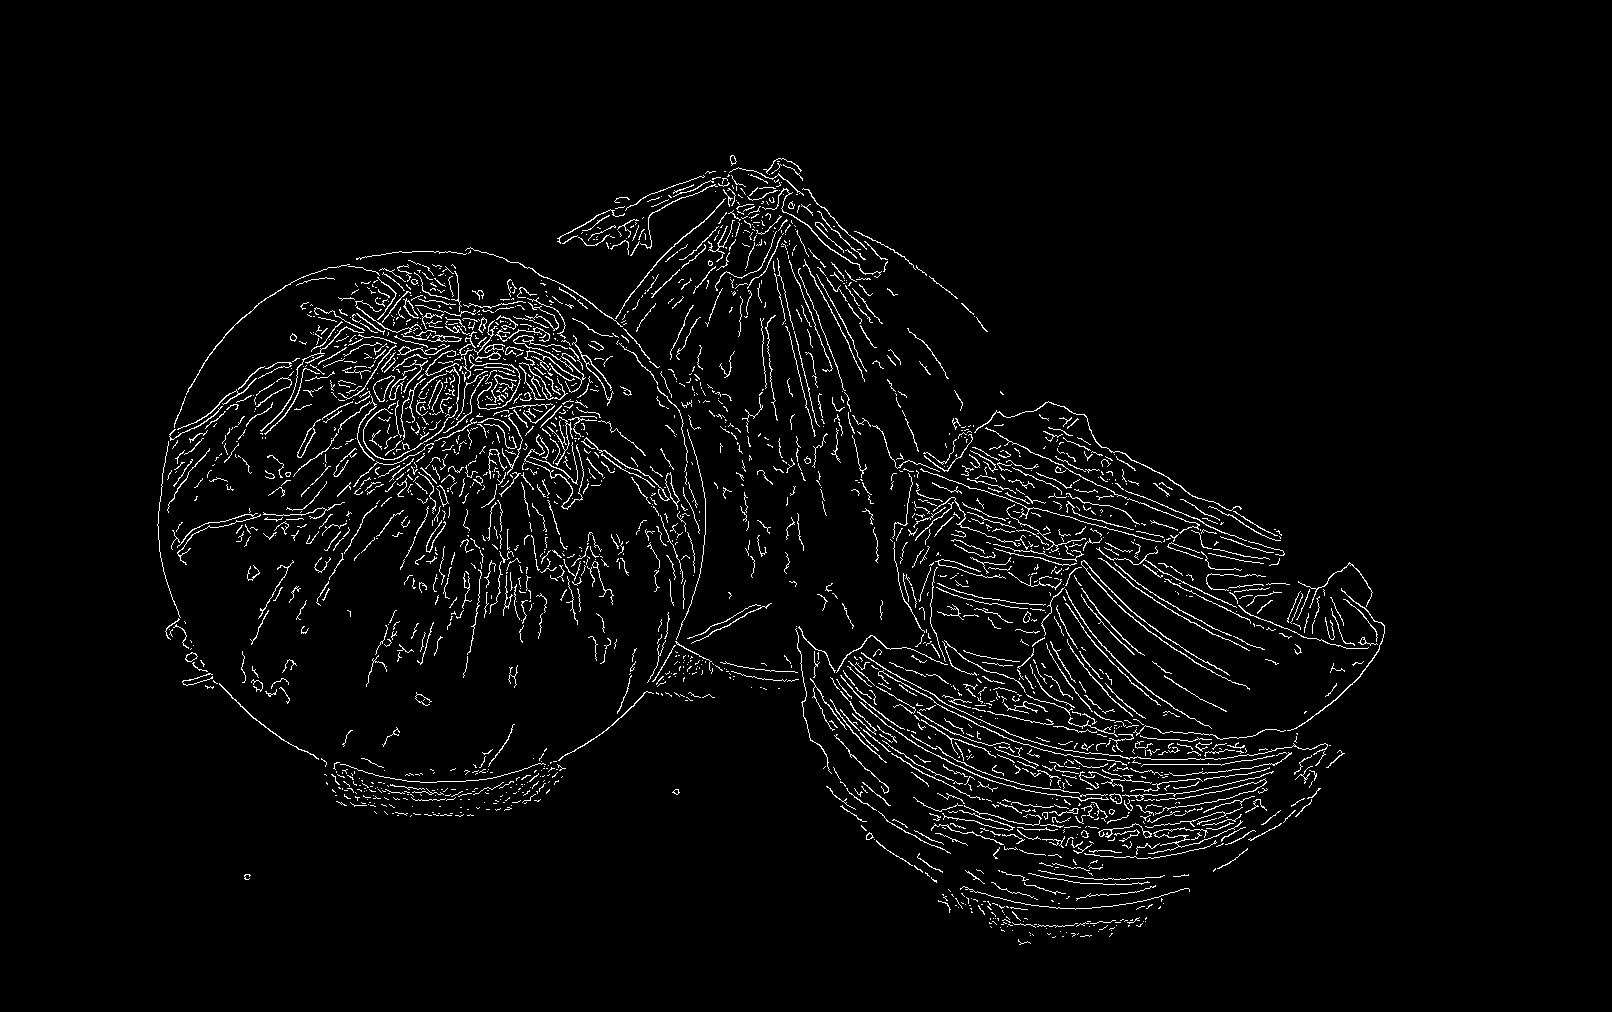onion: (117, 188, 680, 852), (766, 413, 1430, 927), (534, 110, 991, 742)
